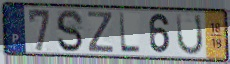6: (148, 13, 172, 55)
7: (27, 7, 53, 53)
L: (118, 11, 143, 55)
S: (55, 8, 85, 54)
U: (175, 12, 205, 57)
Z: (87, 9, 115, 54)
